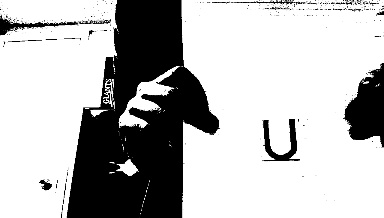U: (257, 116, 300, 158)
